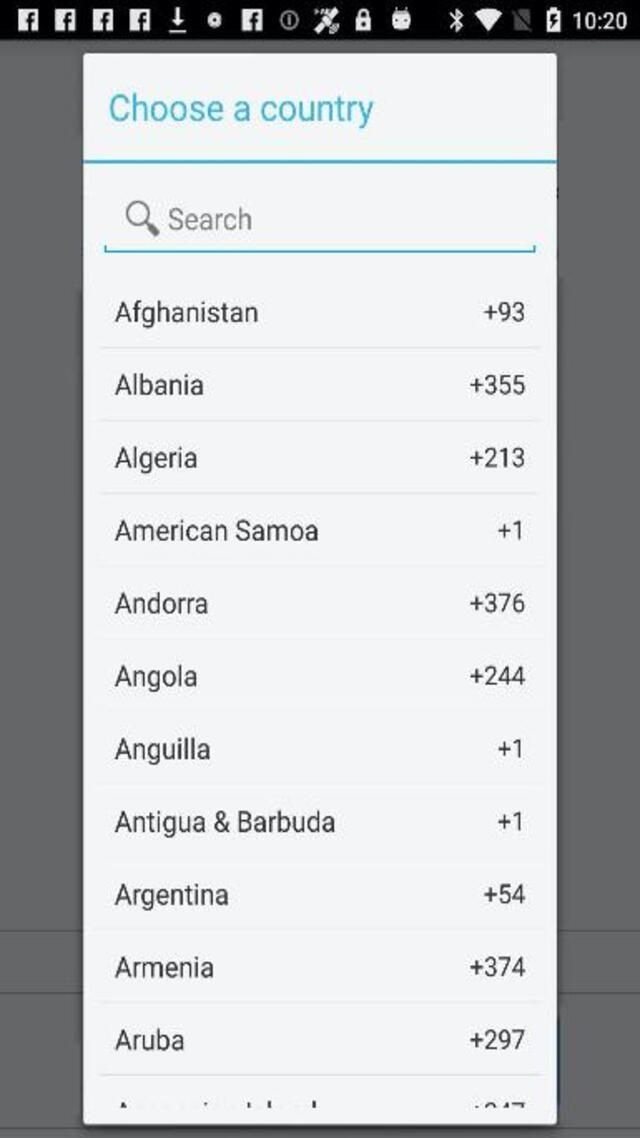Icon: (126, 200, 160, 237)
Text: (110, 92, 374, 128), (115, 810, 334, 837), (115, 520, 318, 540), (116, 300, 256, 328), (115, 882, 228, 910), (116, 738, 210, 763), (116, 445, 197, 473), (116, 664, 197, 691), (114, 372, 202, 396), (115, 957, 214, 978), (115, 592, 208, 614), (169, 207, 250, 230), (115, 1028, 183, 1049), (470, 592, 524, 614), (471, 446, 524, 468), (470, 958, 524, 978), (470, 666, 524, 686), (470, 374, 524, 394), (471, 1028, 524, 1048), (486, 884, 526, 905), (484, 301, 522, 321), (498, 811, 520, 832), (498, 738, 520, 759), (499, 521, 522, 539)
